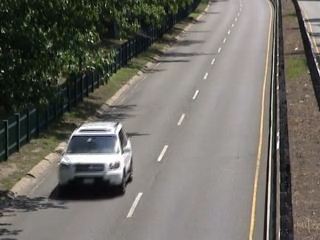car: (54, 115, 139, 202)
